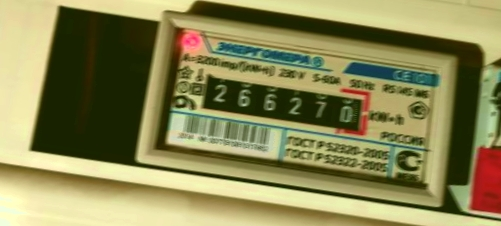0: (337, 102, 353, 124)
2: (211, 81, 227, 104), (287, 95, 303, 116)
6: (236, 86, 251, 108), (262, 91, 277, 111)
7: (313, 99, 326, 119)
screen: (188, 61, 377, 143)
